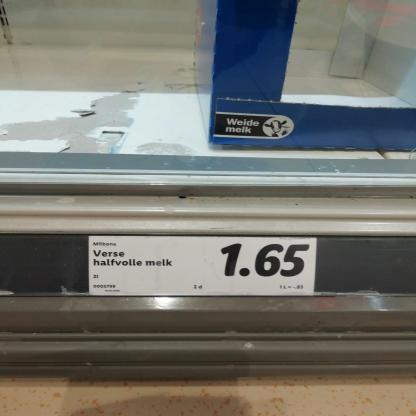prtg: (90, 237, 318, 298)
